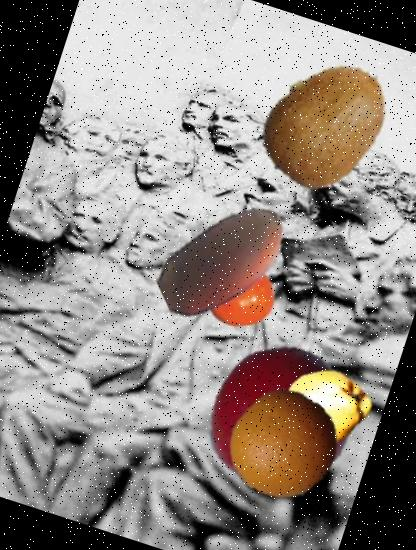Cherry: (187, 323, 366, 502)
Clementine: (197, 254, 283, 340)
Hazelnut: (134, 170, 317, 353)
Kiwi: (240, 36, 416, 212)
Orange: (215, 376, 352, 514)
Quince: (272, 352, 382, 462)
